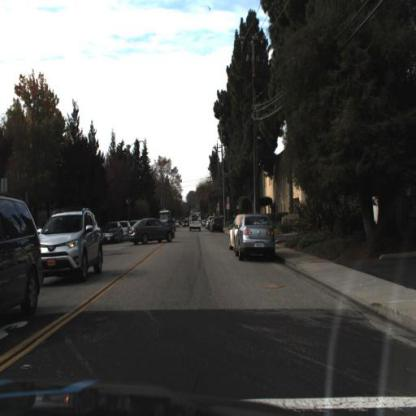car: (2, 198, 44, 334), (40, 210, 103, 281), (235, 215, 277, 259), (129, 217, 179, 248), (127, 217, 176, 246), (100, 220, 124, 248), (185, 208, 205, 239), (101, 224, 125, 245), (209, 214, 225, 235)
truck: (188, 211, 203, 233), (161, 207, 175, 223)
